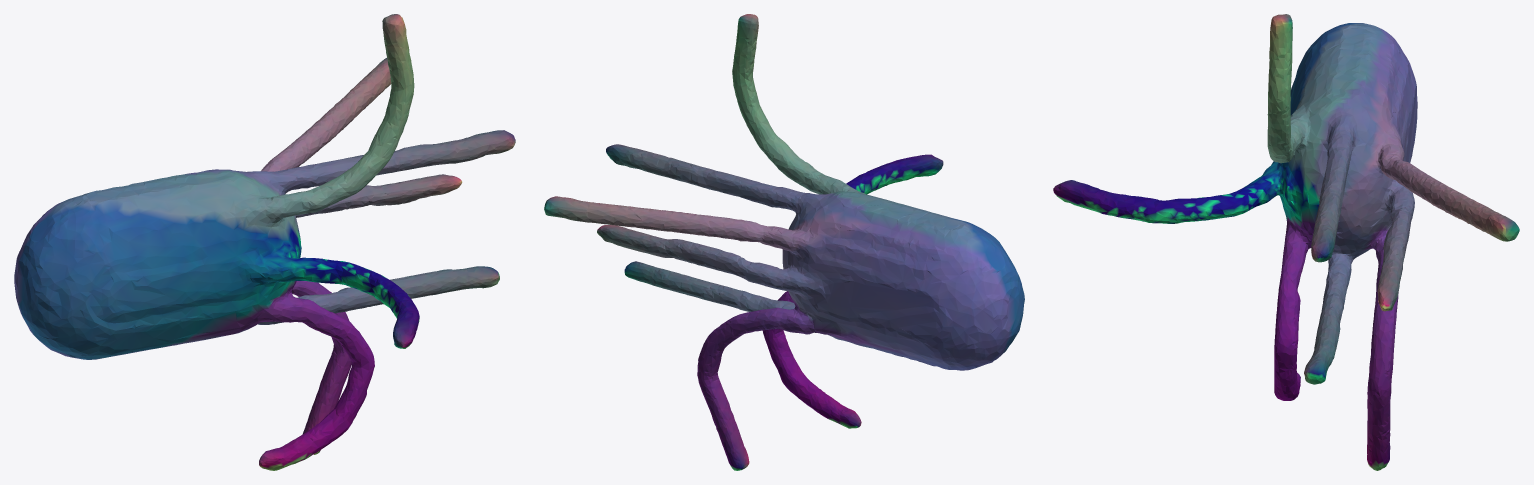
File: octopus-3.off.obj
3 views of the same model, side by side, from view 1: azimuth 30°, elevation 25°; view 2: azimuth 150°, elevation 25°; view 3: azimuth 270°, elevation 25° (orthographic). The views are drawn at different scales.
Bounding box in the file's own units: 1.56 × 1.45 × 1.31.
